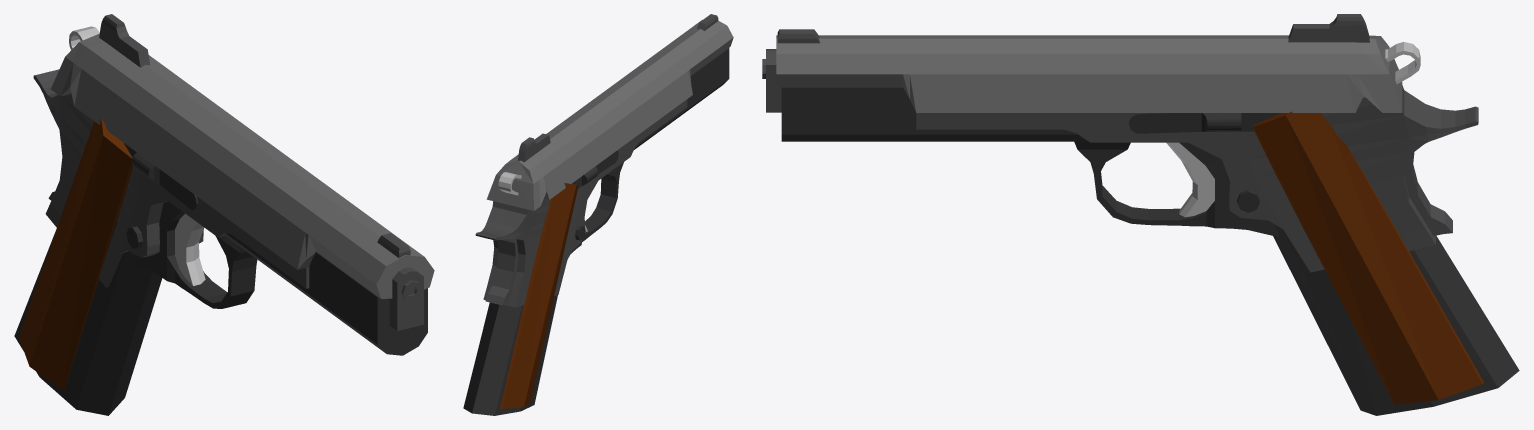
File: Gun.glb
3 views of the same model, side by side, from view 1: azimuth 30°, elevation 25°; view 2: azimuth 150°, elevation 25°; view 3: azimuth 270°, elevation 25° (orthographic). The views are drawn at different scales.
Visible parts, largest first — view 1: Node; view 2: Node; view 3: Node.
Part boxes in pixels (bbox=[...]): Node: bbox=[14, 14, 434, 415]; Node: bbox=[463, 14, 733, 415]; Node: bbox=[762, 14, 1519, 415].
Size of the model in its own units: 0.8954 by 4.14 by 7.2.
